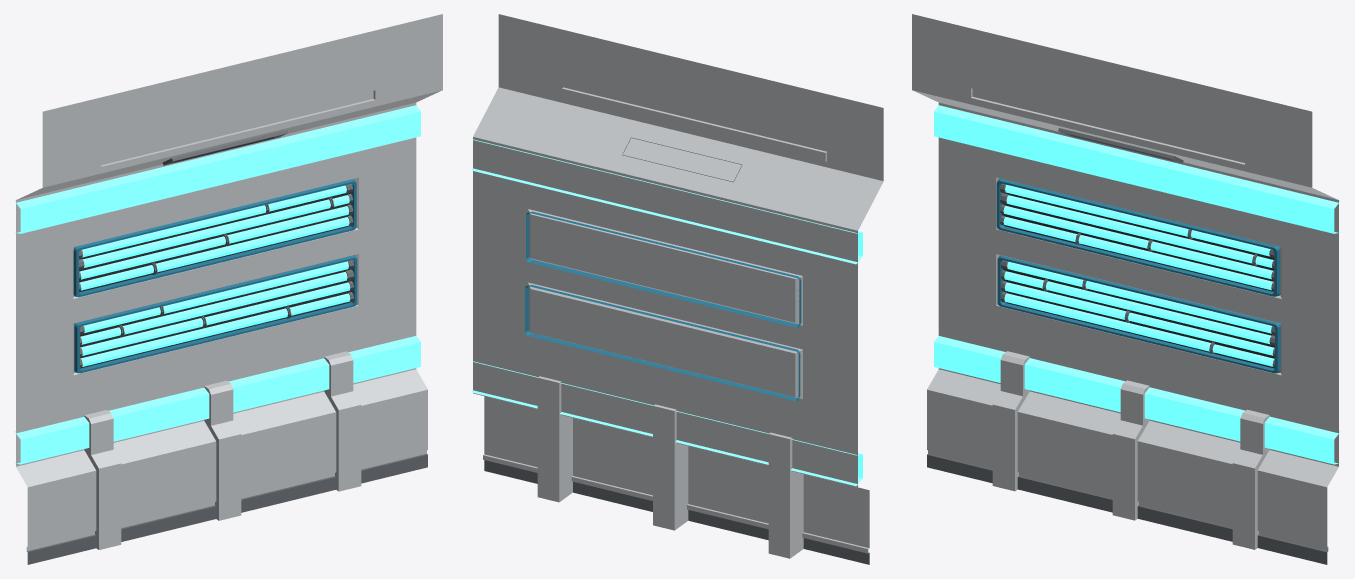
The model's file is wall_5-Bq3wHg_-.glb.
The picture shows the model from 3 angles, left to right: view 1: azimuth 30°, elevation 25°; view 2: azimuth 150°, elevation 25°; view 3: azimuth 330°, elevation 25°; orthographic projection. The views are drawn at different scales.
Parts seen in each view (by area): view 1: Wall_5; view 2: Wall_5; view 3: Wall_5.
Part boxes in pixels (x1,y1,x2,y2): Wall_5: (14,14,442,564); Wall_5: (471,14,883,564); Wall_5: (912,14,1340,564).
Bounding box in the file's own units: 3.34 × 3.7 × 0.4409.
